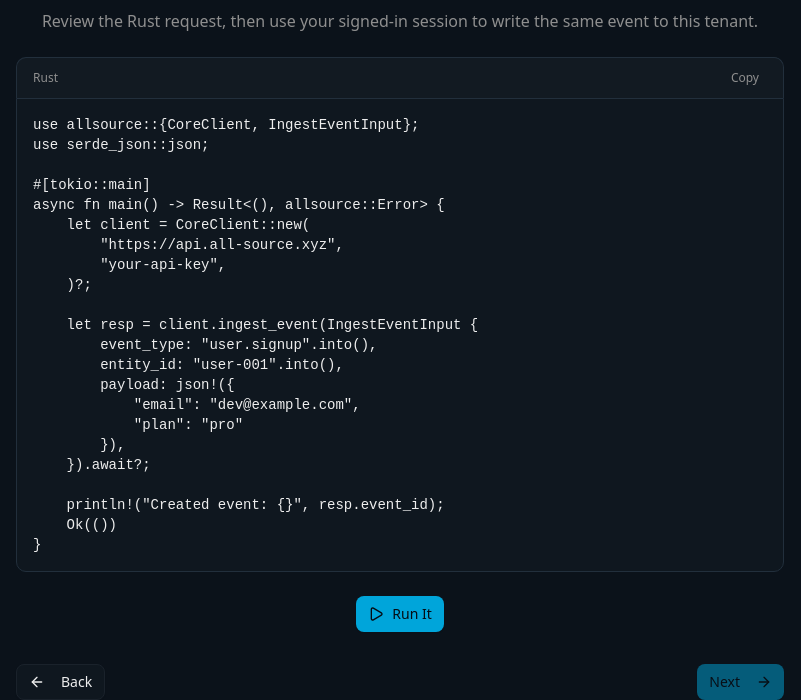
Test: Run It button sends correct POST to /api/v1/events › shows success feedback with event ID
The width and height of the screenshot is (801, 700).
(page scrolled)
Click the button with test id "run-it-button" at (400, 614), box [356,596,444,632]
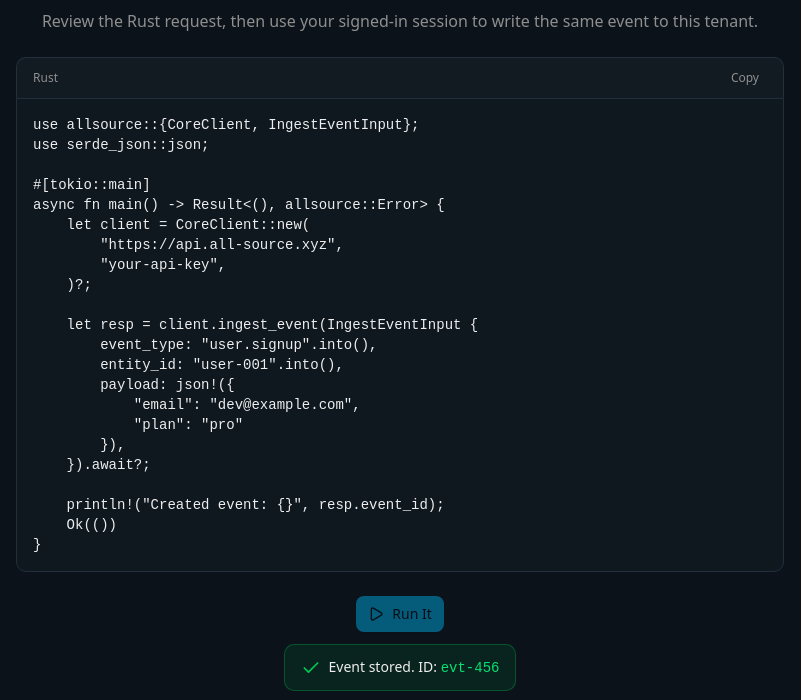
Result: the element with test id "event-created-feedback" is shown at [284,644,516,691]
Result: the text "evt-456" is shown at [441,660,500,676]
